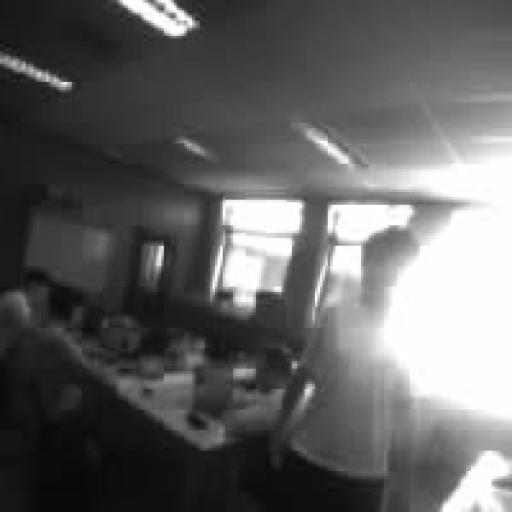human: (272, 228, 417, 511), (0, 292, 99, 509), (223, 346, 291, 437), (24, 267, 51, 325)
